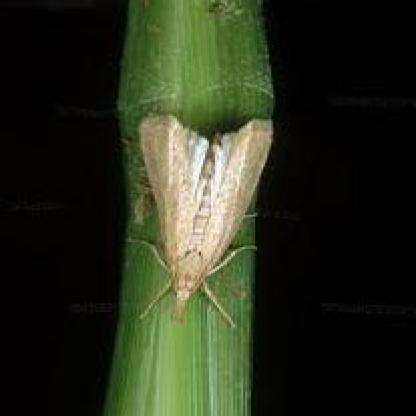stem-borer: (134, 109, 258, 311)
